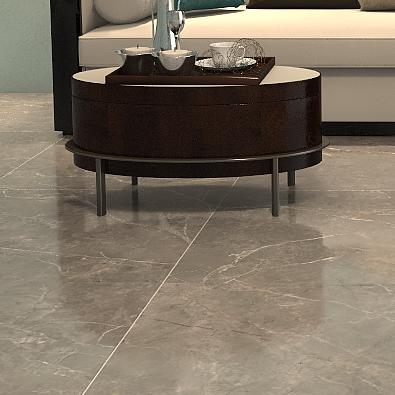table: (68, 67, 324, 217)
